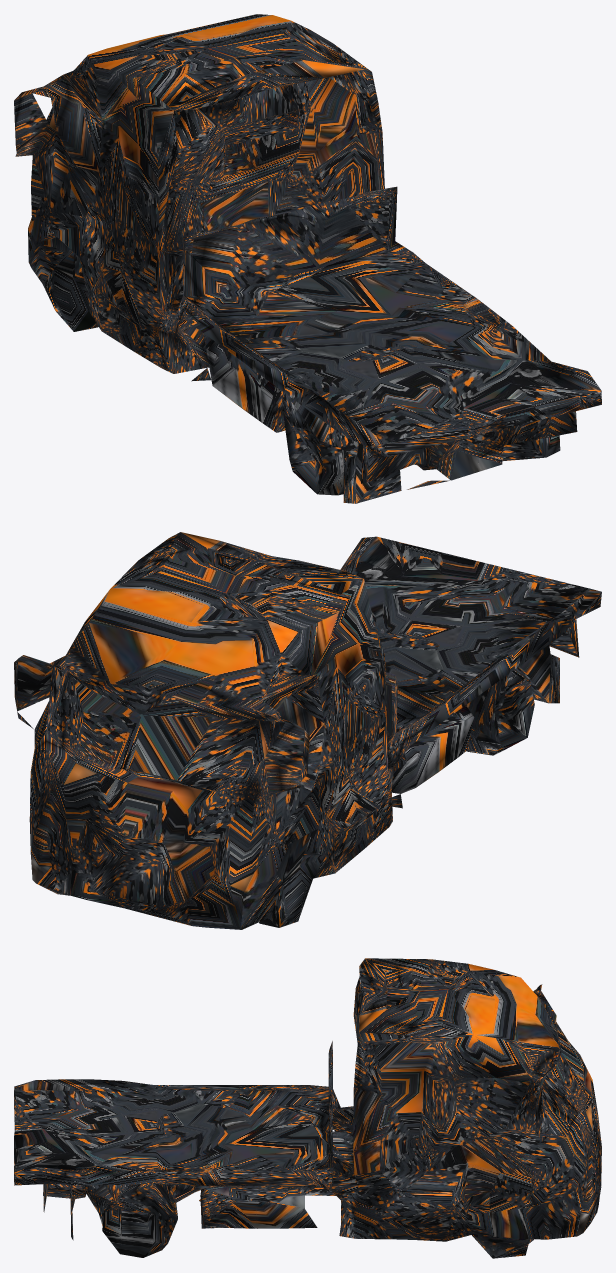
Rendered from carrier.far.glb.
3 views of the same model, one above another, from view 1: azimuth 30°, elevation 25°; view 2: azimuth 150°, elevation 25°; view 3: azimuth 270°, elevation 25° (orthographic). The views are drawn at different scales.
Size of the model in its own units: 0.8781 by 0.8091 by 1.9.
Materials: 1 (1 with a texture image).
